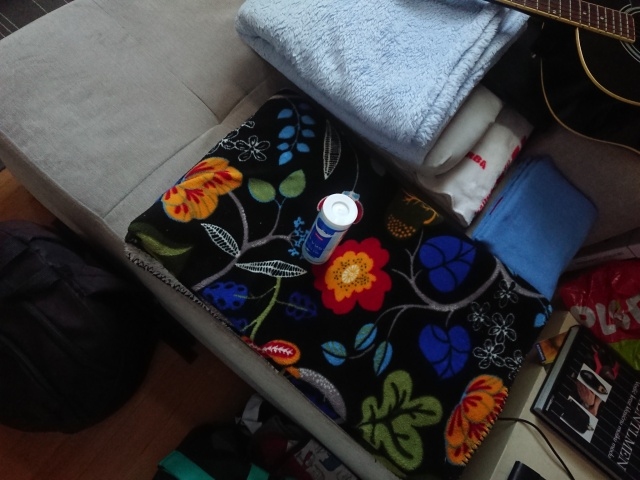Solana Pag Fine Sea Salt 250g: (298, 191, 361, 267)
